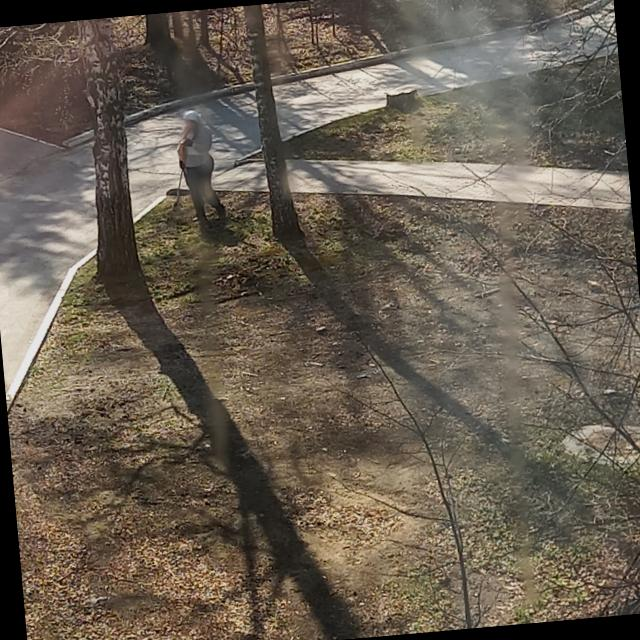person: (174, 108, 228, 230)
